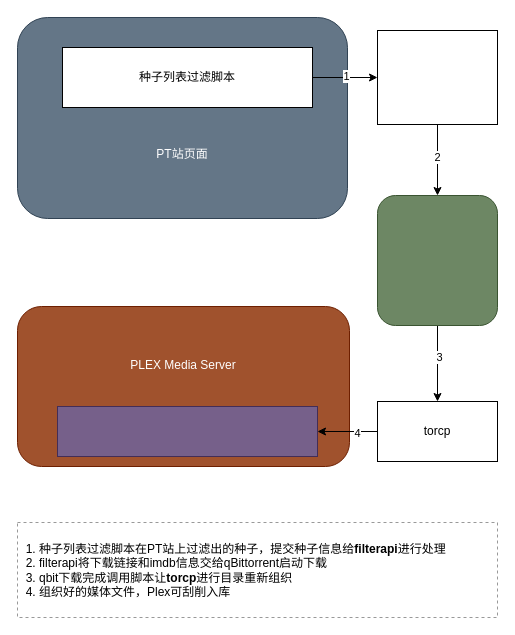
Some shapes in this 515 by 635 pixel diagram are drawn without their labels. The centre of each missing label's shape, as x and y in pixels:
filterapi 本地下载入库api: the point at 437,77
qBittorrent: the point at 437,260
存储（nas/gd）: the point at 187,431
